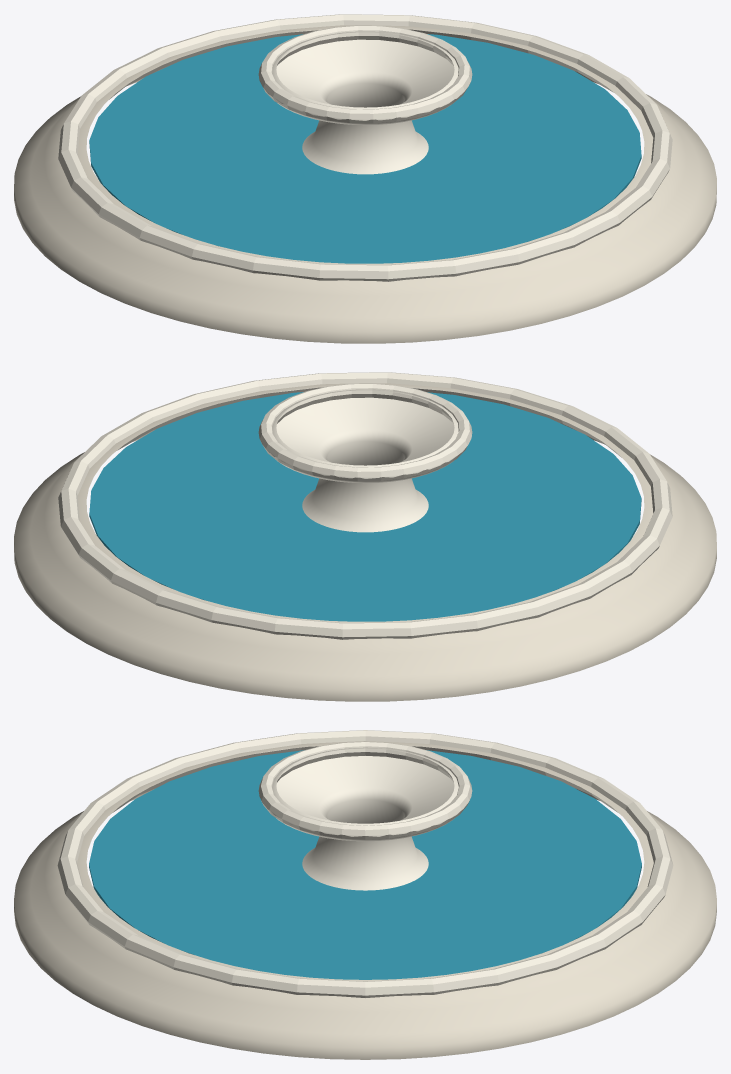
File: Greek_Fountain_Basin.fbx
3 renders of one model, top to bottom at view 1: azimuth 30°, elevation 25°; view 2: azimuth 150°, elevation 25°; view 3: azimuth 270°, elevation 25°, orthographic.
Parts seen in each view (by area): view 1: Greek_Fountain_Basin - Fountain Water, Greek_Fountain_Basin - Aged Pentelic Marble, Greek_Fountain_Basin - Fresh Marble Edge; view 2: Greek_Fountain_Basin - Fountain Water, Greek_Fountain_Basin - Aged Pentelic Marble, Greek_Fountain_Basin - Fresh Marble Edge; view 3: Greek_Fountain_Basin - Fountain Water, Greek_Fountain_Basin - Aged Pentelic Marble, Greek_Fountain_Basin - Fresh Marble Edge.
Part boxes in pixels (<box>): Greek_Fountain_Basin - Fountain Water: <box>89,34,641,263</box>; Greek_Fountain_Basin - Aged Pentelic Marble: <box>14,25,716,343</box>; Greek_Fountain_Basin - Fresh Marble Edge: <box>58,14,672,281</box>; Greek_Fountain_Basin - Fountain Water: <box>89,392,641,621</box>; Greek_Fountain_Basin - Aged Pentelic Marble: <box>14,383,716,701</box>; Greek_Fountain_Basin - Fresh Marble Edge: <box>58,372,672,639</box>; Greek_Fountain_Basin - Fountain Water: <box>89,750,641,979</box>; Greek_Fountain_Basin - Aged Pentelic Marble: <box>14,741,716,1059</box>; Greek_Fountain_Basin - Fresh Marble Edge: <box>57,730,673,997</box>.
Size of the model in its own units: 15 by 3 by 15.
